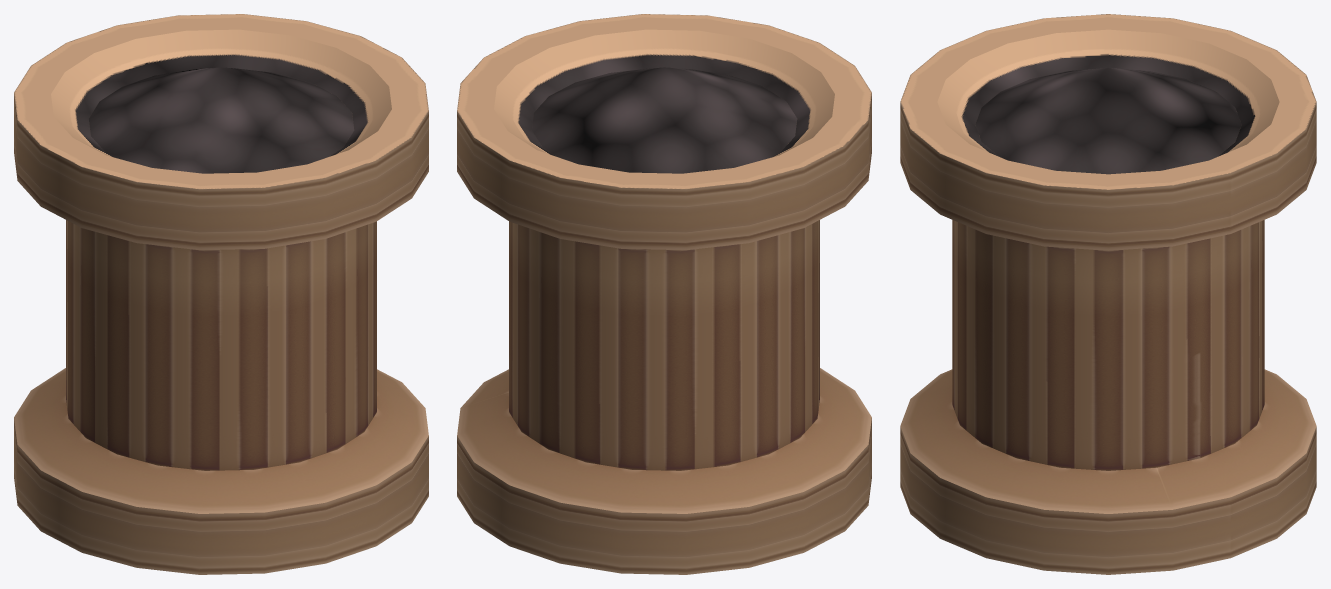
Rendered from DND_Brazier.fbx.
3 renders of one model, left to right at view 1: azimuth 30°, elevation 25°; view 2: azimuth 150°, elevation 25°; view 3: azimuth 270°, elevation 25°, orthographic.
Visible parts, largest first — view 1: polySurface1; view 2: polySurface1; view 3: polySurface1.
Boxes of the visible parts, x1=… form: polySurface1: x1=14, y1=14, x2=428, y2=574; polySurface1: x1=457, y1=14, x2=871, y2=574; polySurface1: x1=900, y1=14, x2=1316, y2=574.
Size of the model in its own units: 128 by 142 by 128.
